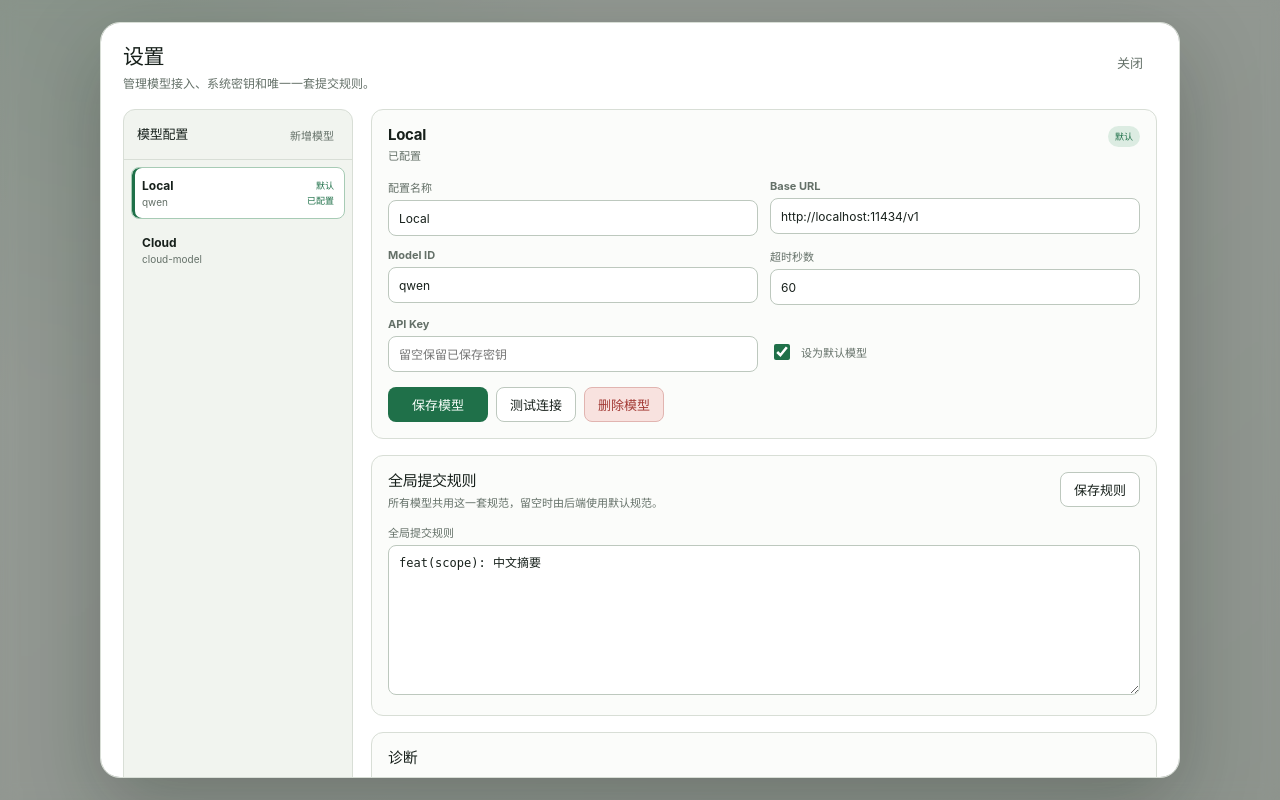
Test: SettingsDialog › validates required fields before creating a profile
Step 1. Click the button "新增模型" → (312, 135), box 282,120 -> 342,149
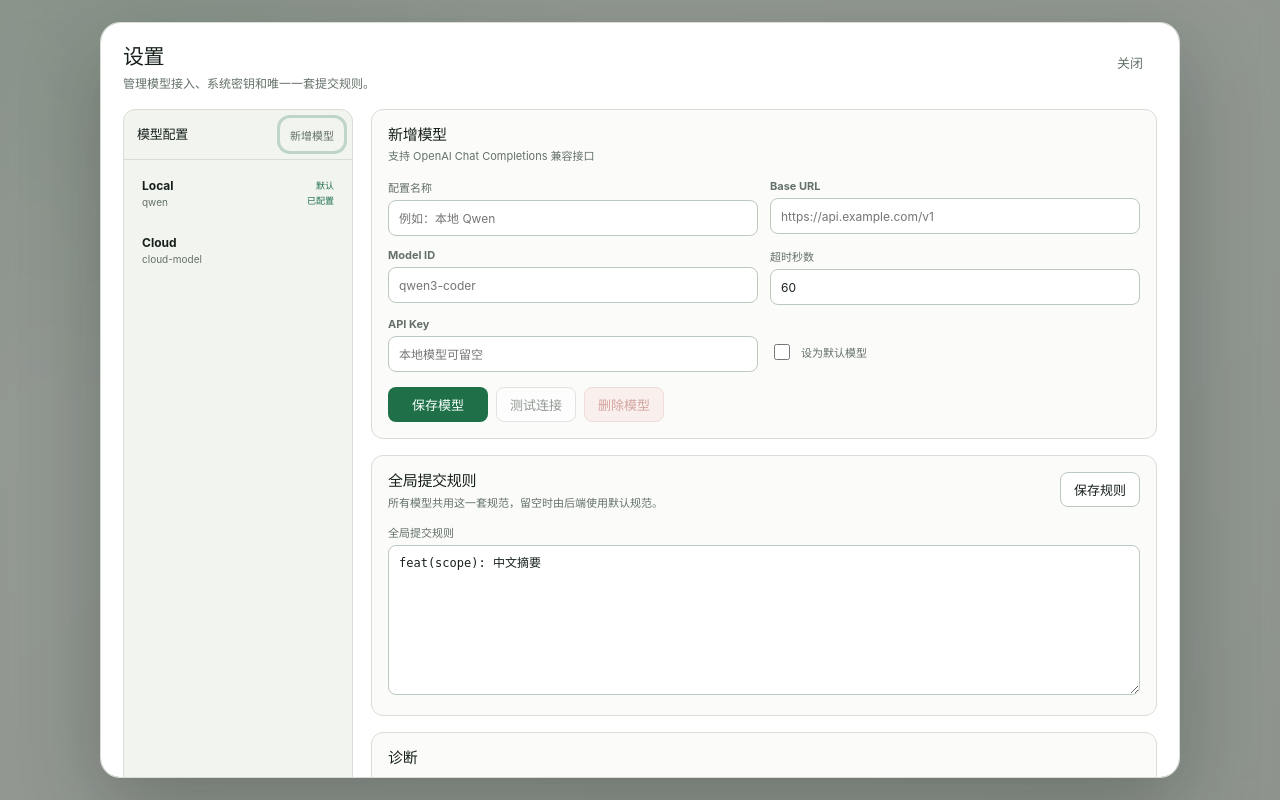
Step 2. Click the button "保存模型" → (438, 405), box 388,387 -> 488,422
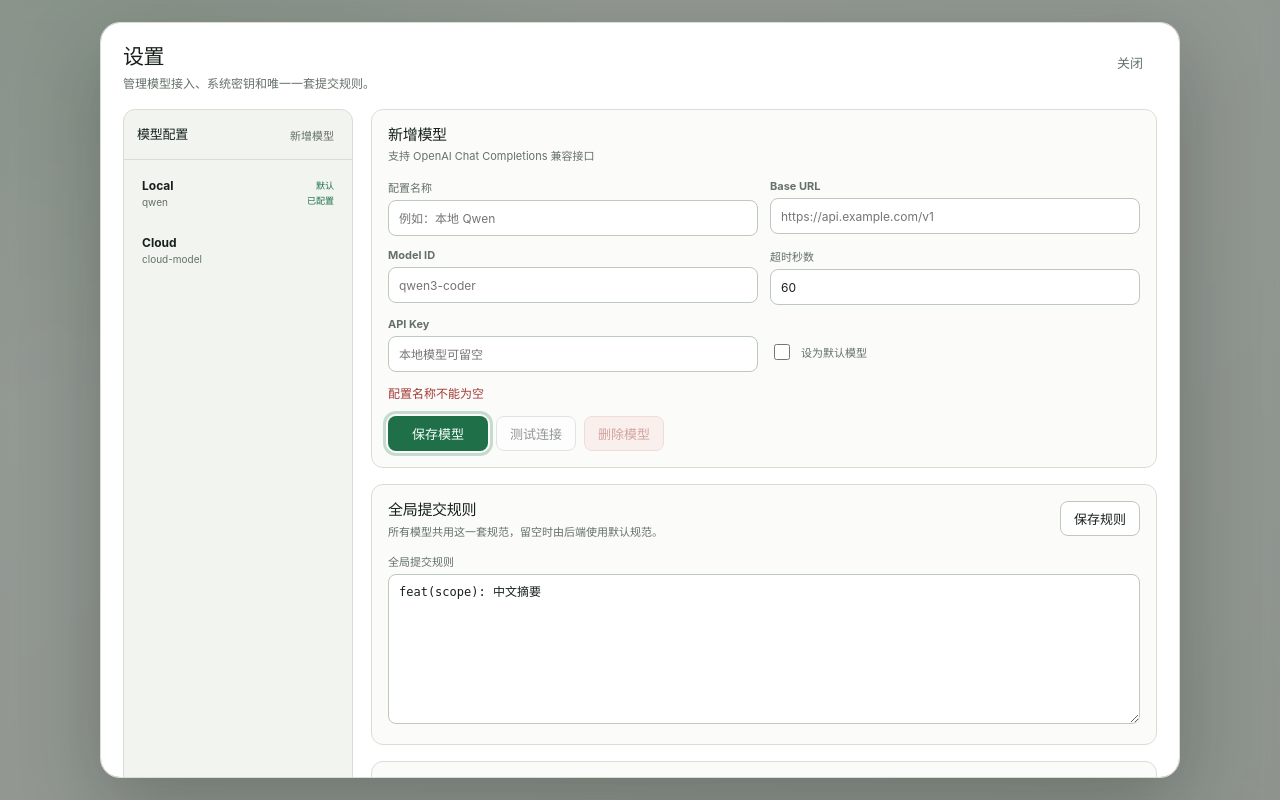
Expected: the message reads "配置名称不能为空", 388,386 -> 484,401
